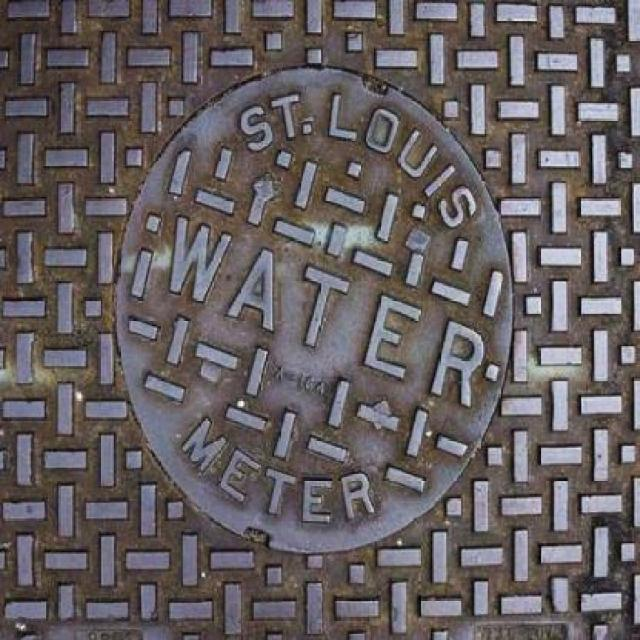Manhole: (4, 4, 634, 634)
